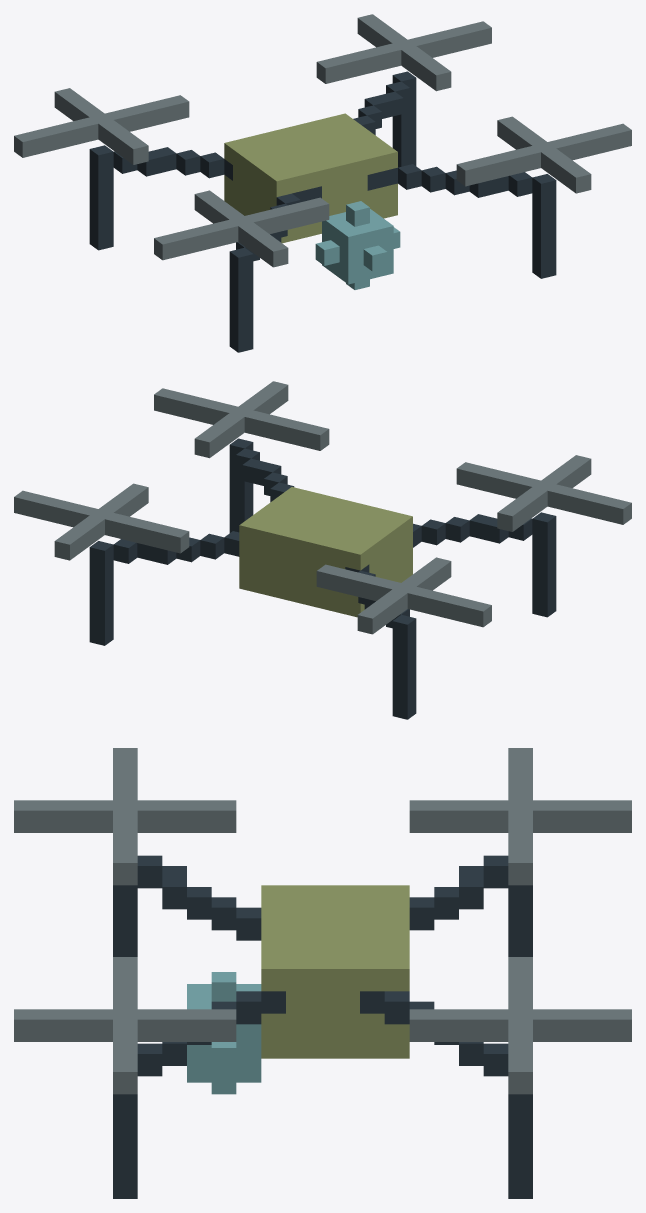
Rendered from agriculture-10.glb.
3 views of the same model, one above another, from view 1: azimuth 30°, elevation 25°; view 2: azimuth 150°, elevation 25°; view 3: azimuth 270°, elevation 25° (orthographic). The views are drawn at different scales.
Visible parts, largest first — view 1: Farm drone; view 2: Farm drone; view 3: Farm drone.
Part boxes in pixels (x1=…): Farm drone: x1=14, y1=14, x2=631, y2=352; Farm drone: x1=14, y1=381, x2=631, y2=719; Farm drone: x1=14, y1=748, x2=631, y2=1198.
Bounding box in the file's own units: 2.48 × 0.64 × 2.
